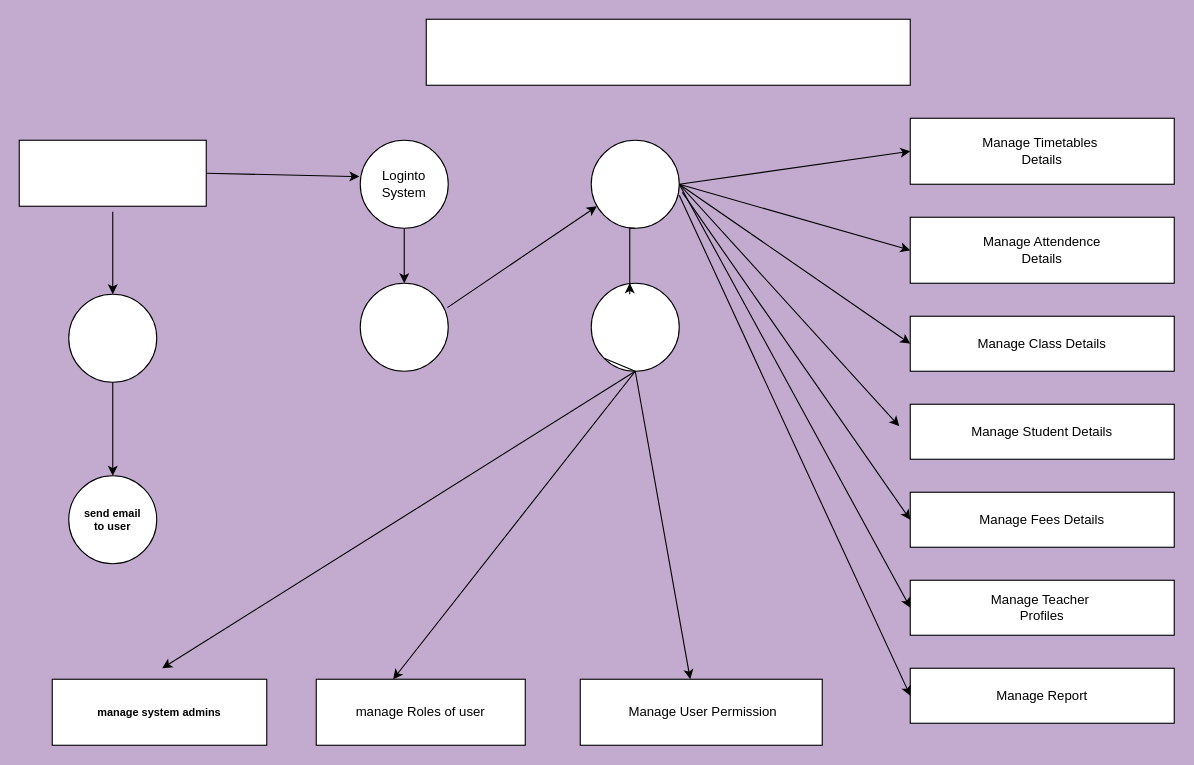
Image size: 1194x765. Some labels were removed from this diagram. Here are the shapes that lost their labels. From the top down, the centre of each, then its label:
(x=667, y=51): Student information System
(x=112, y=172): Admin
(x=634, y=183): check Roles of Access
(x=112, y=337): forgot password
(x=403, y=326): check credentials
(x=634, y=326): manage modules
